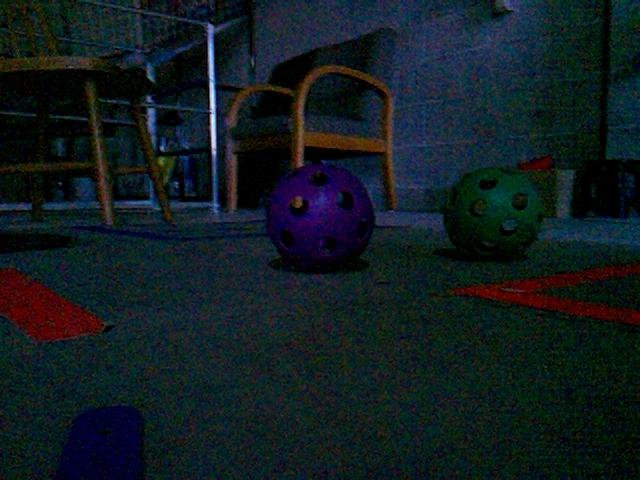Green: (441, 167, 545, 258)
Purple: (263, 162, 374, 270)
